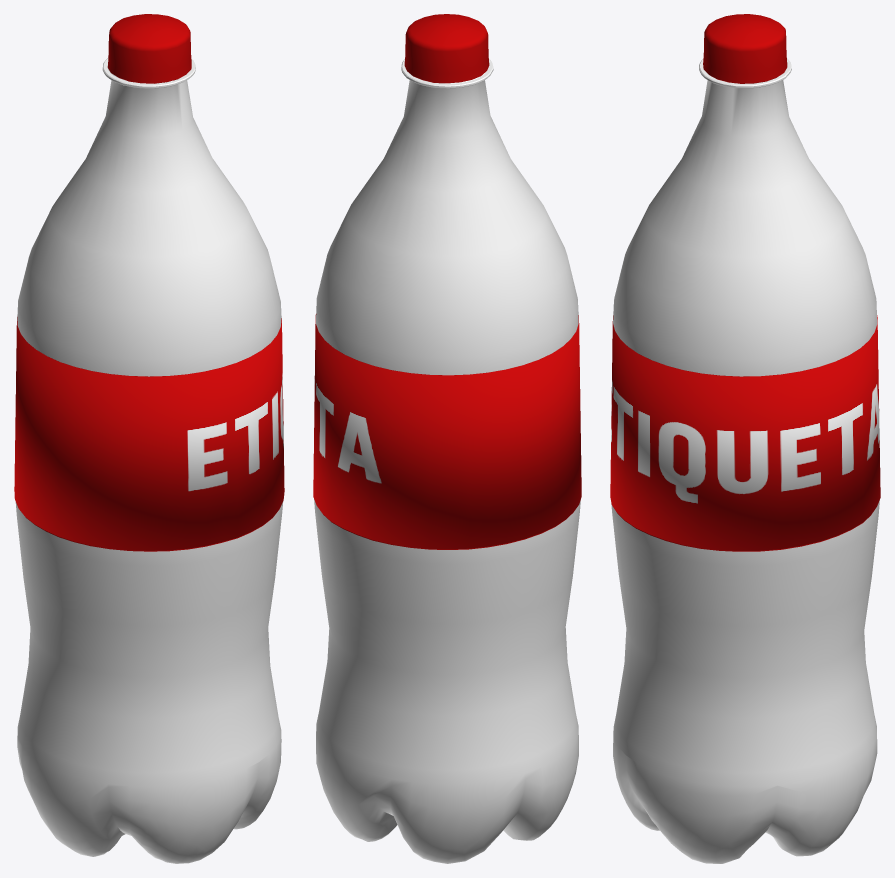
File: botella_2_5.glb
The picture shows the model from 3 angles, left to right: view 1: azimuth 30°, elevation 25°; view 2: azimuth 150°, elevation 25°; view 3: azimuth 270°, elevation 25°; orthographic projection.
Parts seen in each view (by area): view 1: Coca2_5_L; view 2: Coca2_5_L; view 3: Coca2_5_L.
Boxes of the visible parts, box(x1,y1,x2,y2) form: Coca2_5_L: box(14, 14, 284, 863); Coca2_5_L: box(313, 14, 581, 863); Coca2_5_L: box(610, 14, 880, 863).
Size of the model in its own units: 1.65 by 5.45 by 1.65.
3 materials, 1 textured.
